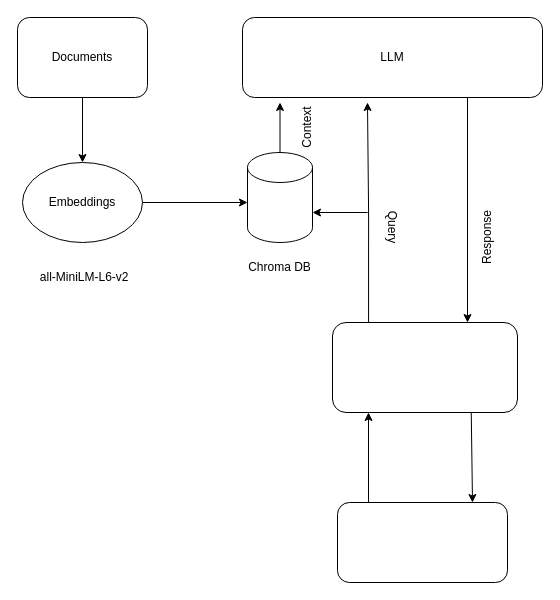
Some shapes in this 560 by 600 pixel diagram are drawn without their labels. The shapes that lost their labels are listed below. From the top down, each one's centre as x and y in pixels, then its label:
(279,197): Vector DB
(425,367): Guardrail
